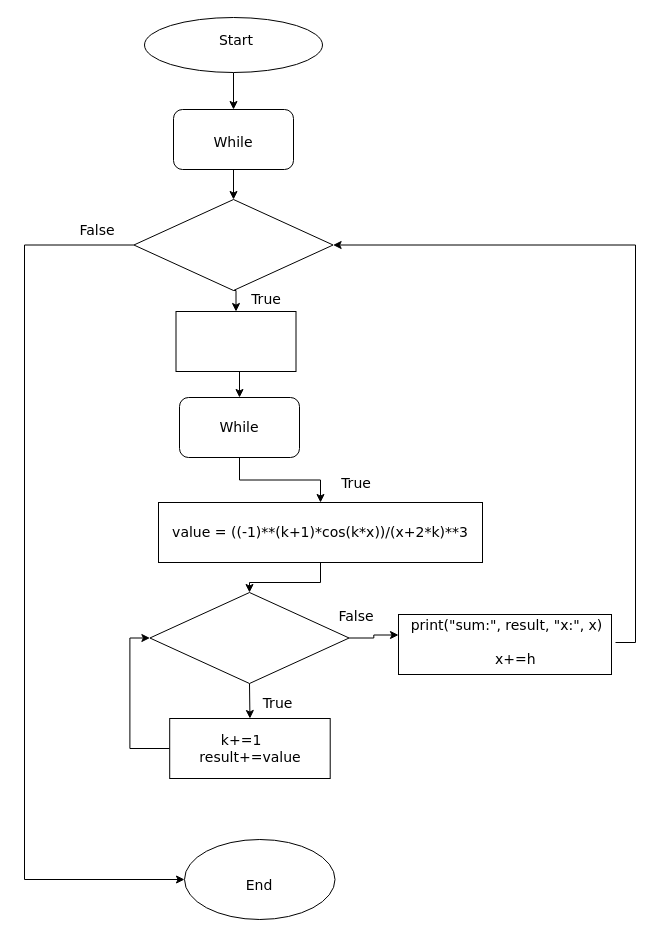
This 661x937 diagram has some shape labels left out. Each missing label, with the box of its shape:
abs(value) >= d: (149, 592, 349, 684)
result = 0 k = 1: (175, 310, 296, 372)
x <= (b + 1e-8): (133, 198, 333, 290)
